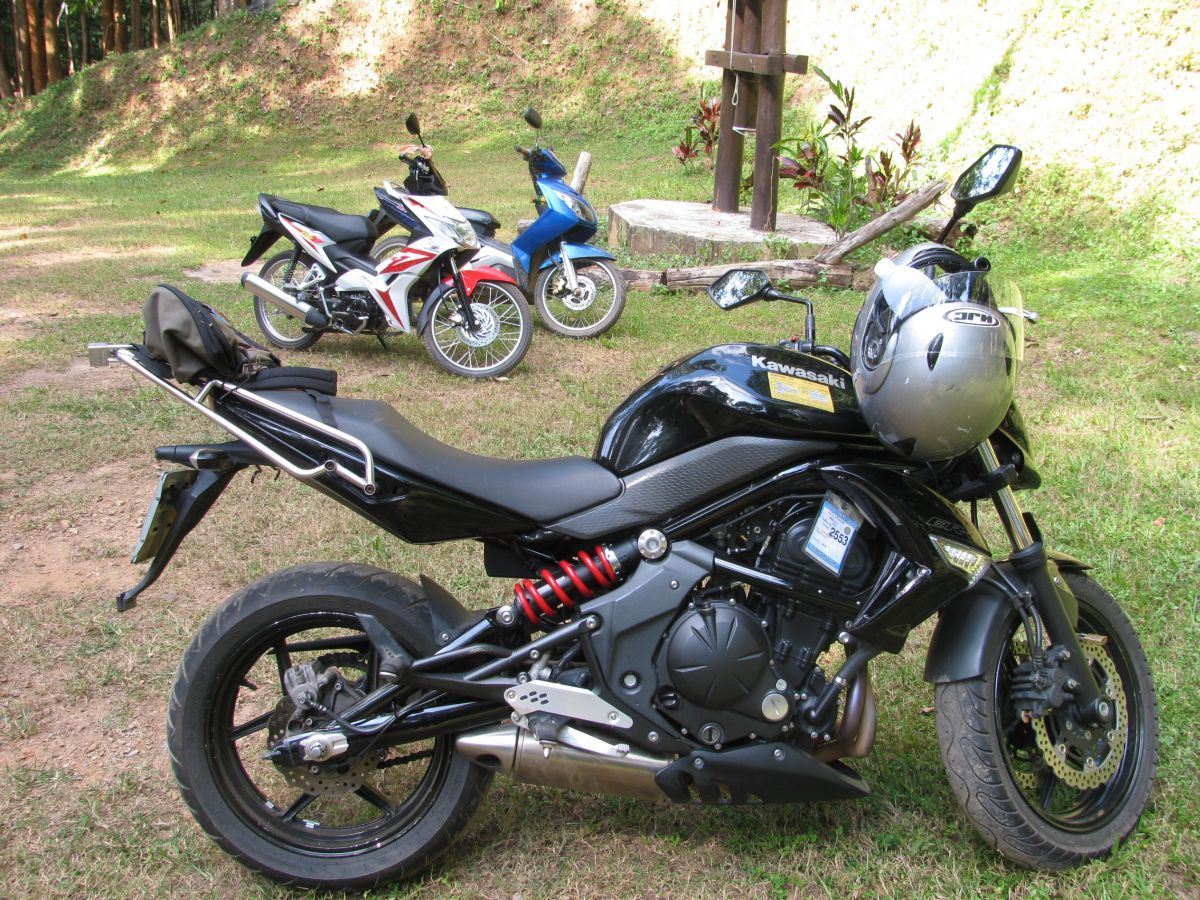motorbike: (84, 312, 1173, 884)
